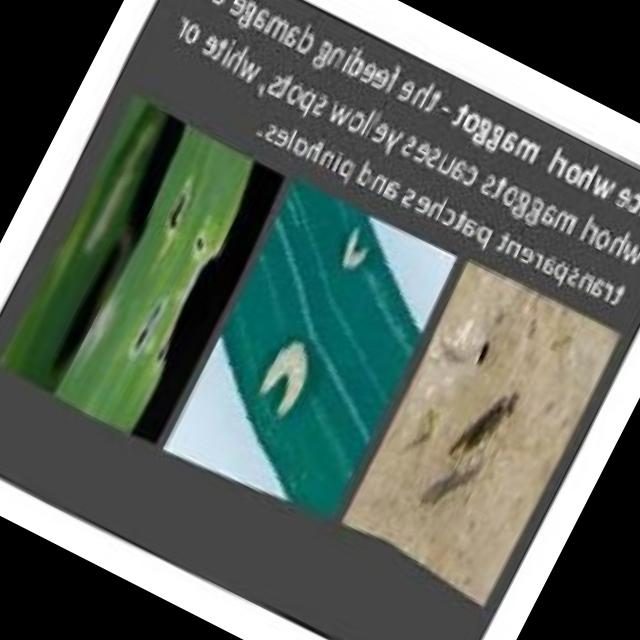whorl-maggot: (240, 323, 329, 426), (328, 219, 381, 280)
